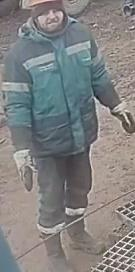gloves: (13, 149, 38, 194), (110, 100, 135, 134)
helmet: (24, 0, 62, 8)
vest: (17, 21, 98, 155)
